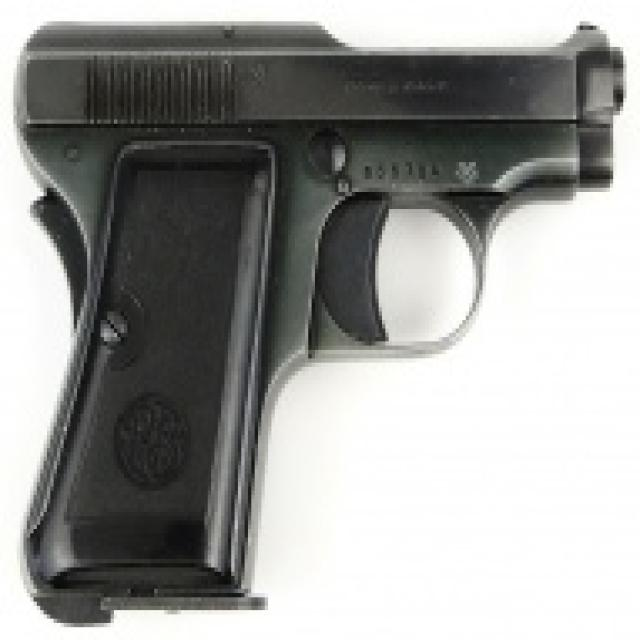pistol: (1, 1, 633, 635)
